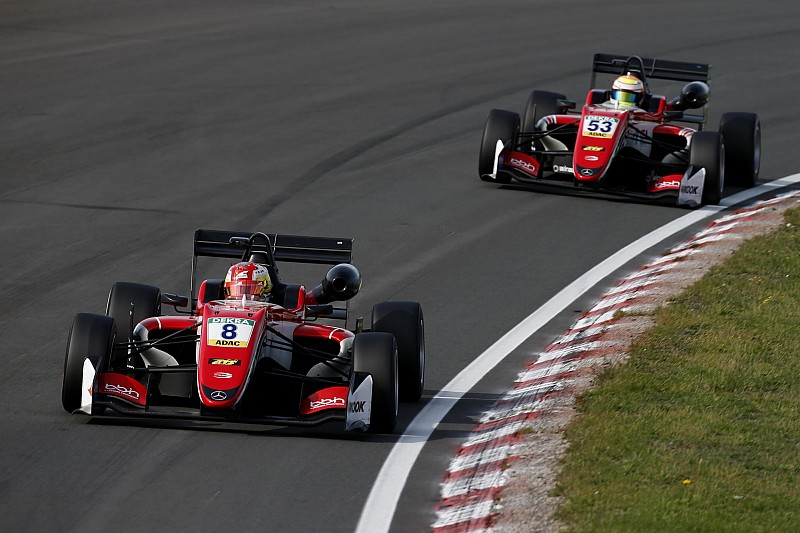race car: (59, 226, 427, 439), (477, 51, 764, 211)
